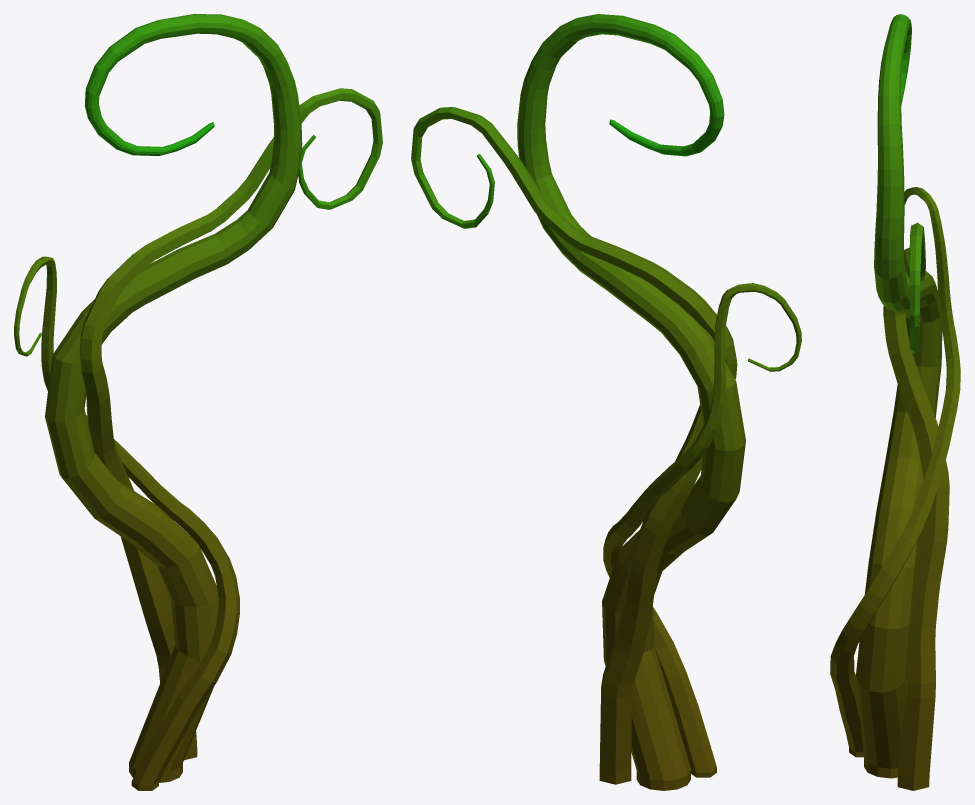
File: Vines texured.fbx
The picture shows the model from 3 angles, left to right: view 1: azimuth 30°, elevation 25°; view 2: azimuth 150°, elevation 25°; view 3: azimuth 270°, elevation 25°; orthographic projection.
Parts seen in each view (by area): view 1: Vine; view 2: Vine; view 3: Vine.
Boxes of the visible parts, x1,y1,x2,y2 form: Vine: (14, 14, 382, 790); Vine: (411, 14, 801, 790); Vine: (830, 14, 960, 790).
Size of the model in its own units: 66.16 by 125 by 19.76.
1 material, 1 textured.
